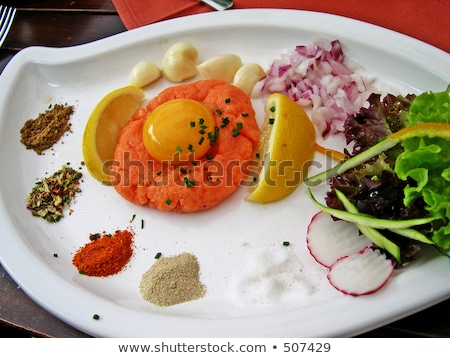ground_beef: (128, 95, 257, 204)
